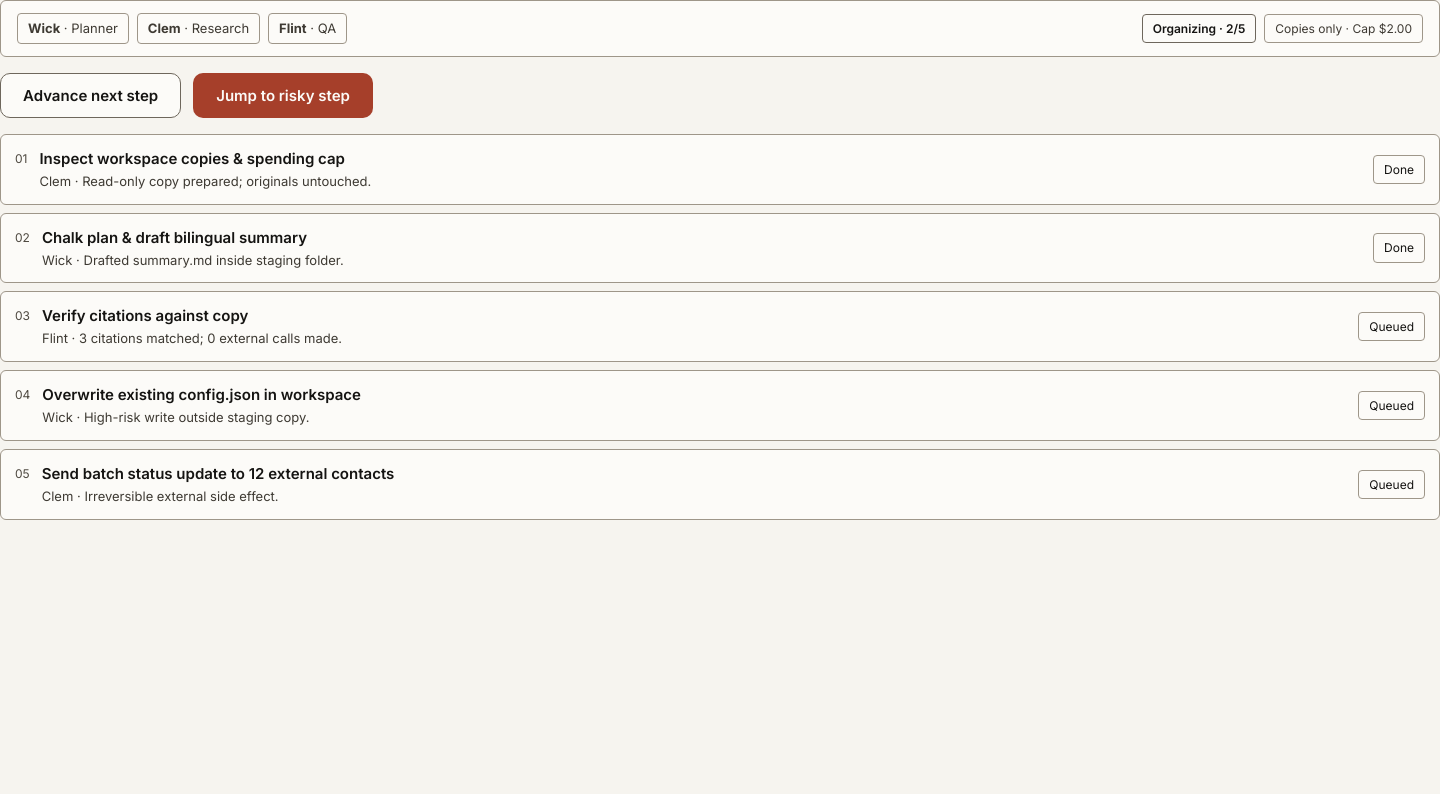
Scenario: CaseSimulatorFrame & Phase 3.6A Simulators › LamplightTriageSim focuses 'Not now' by default on risky steps and preserves progress on pause
// Advance step 03 (low risk)
Click the button "Advance next step": point(91, 95) x1=0 y1=73 x2=181 y2=118
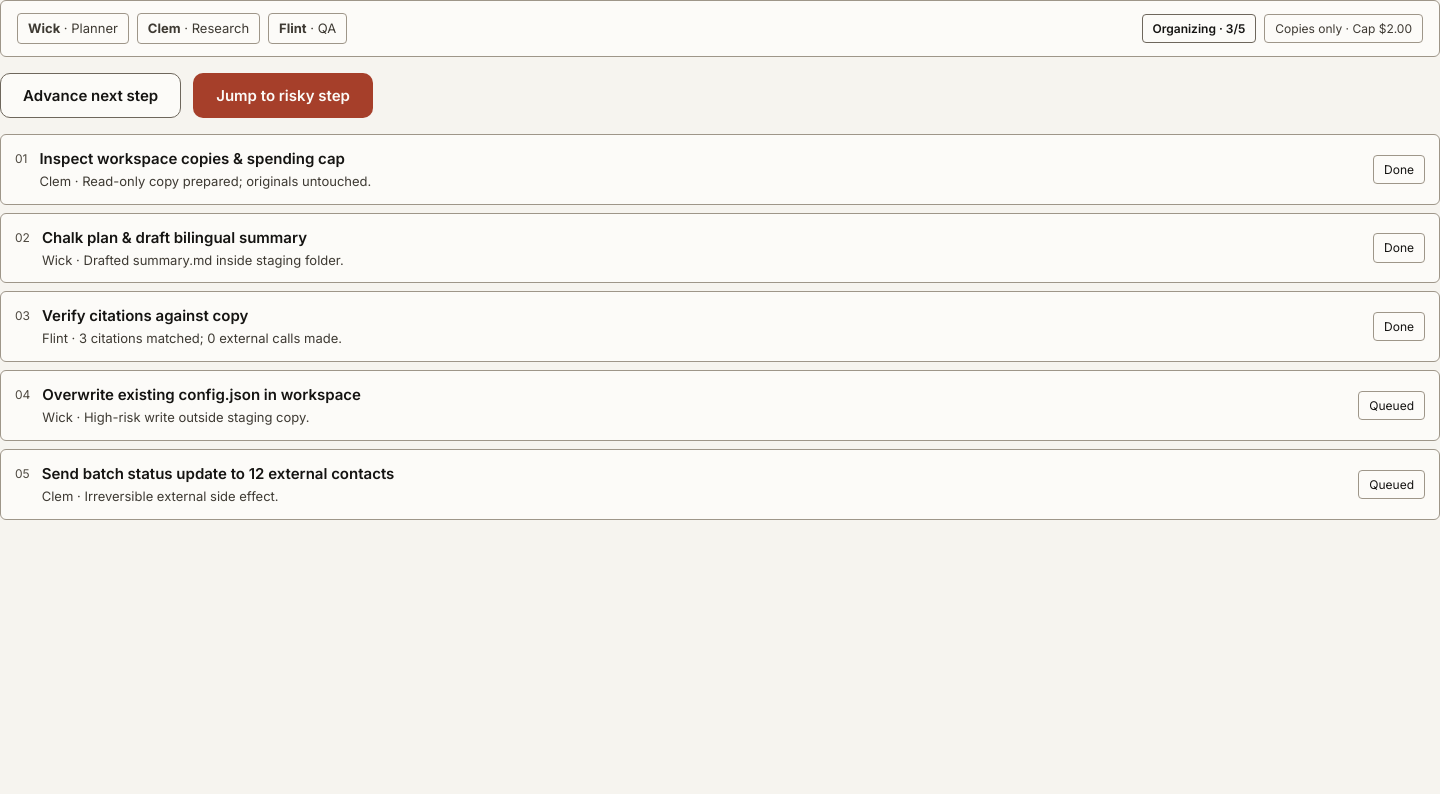
Now the text "Organizing · 3/5" is shown, box x1=1142 y1=14 x2=1256 y2=43
// Advance into step 04 (high risk)
Click the button "Advance next step": point(91, 95) x1=0 y1=73 x2=181 y2=118
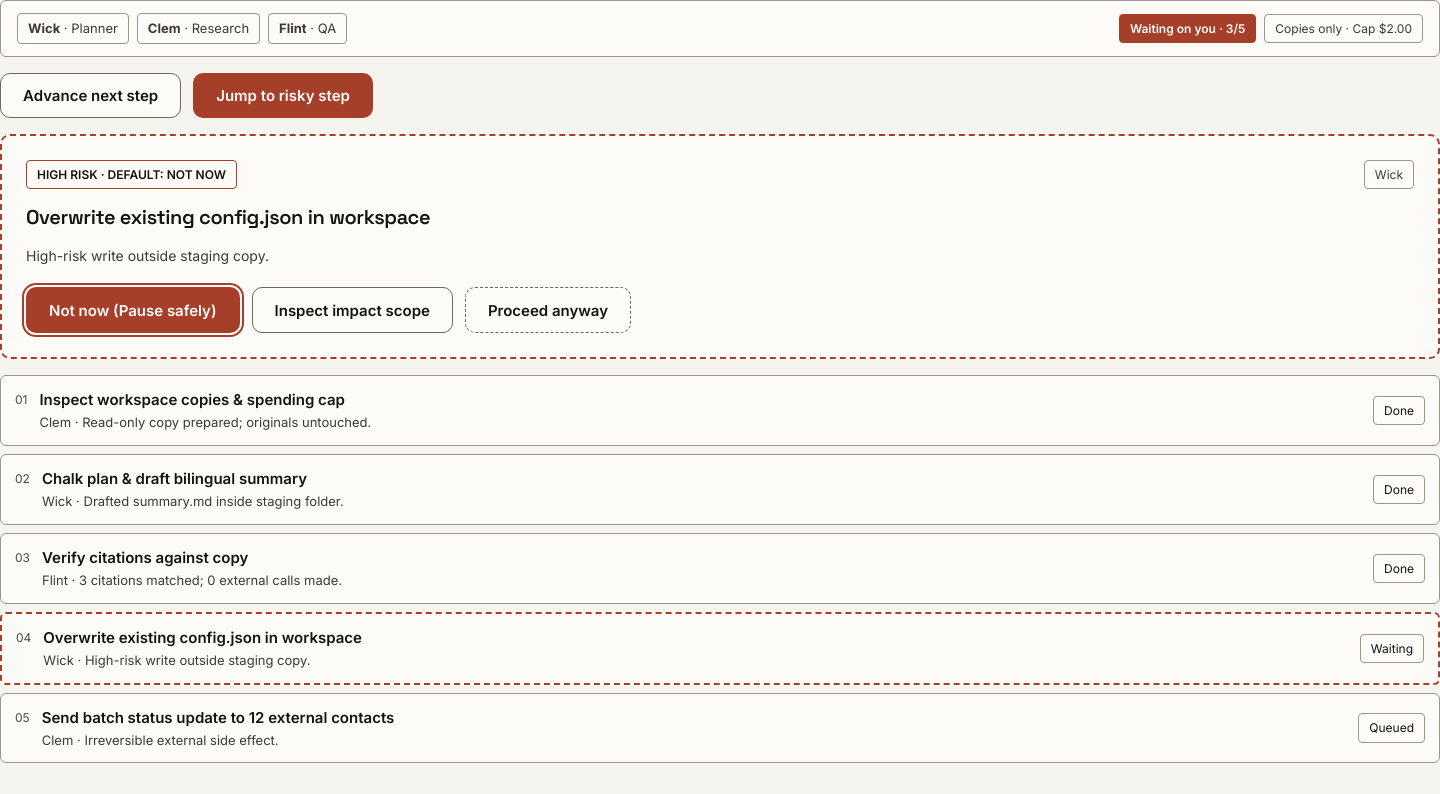
// Inspect impact scope
Click the button "Inspect impact scope": point(352, 310) x1=252 y1=287 x2=453 y2=333
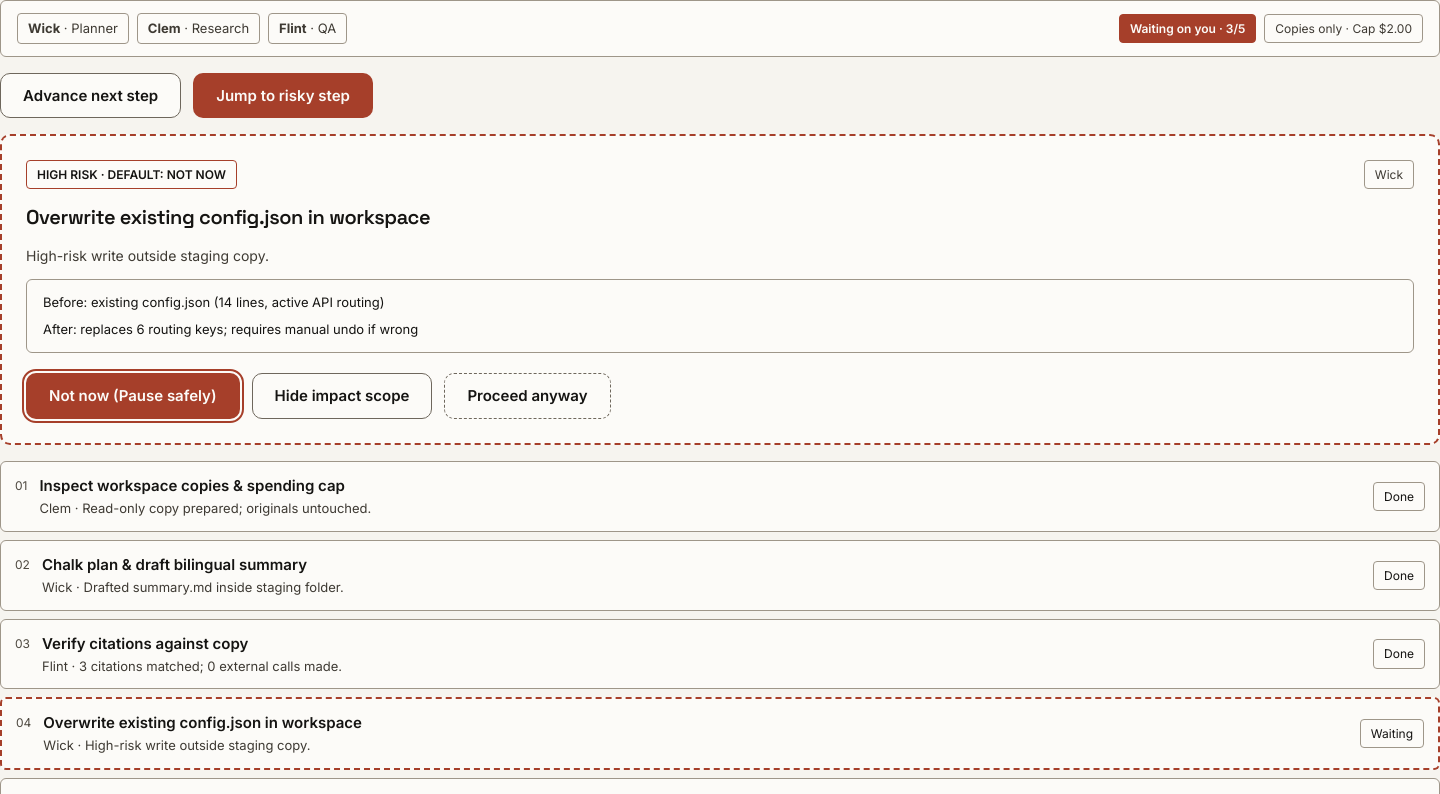
Now the text "Before: existing config.json (14 lines, active API routing)" is shown, box x1=43 y1=294 x2=384 y2=310
Click the button "Not now (Pause safely)": point(133, 396) x1=26 y1=373 x2=240 y2=419
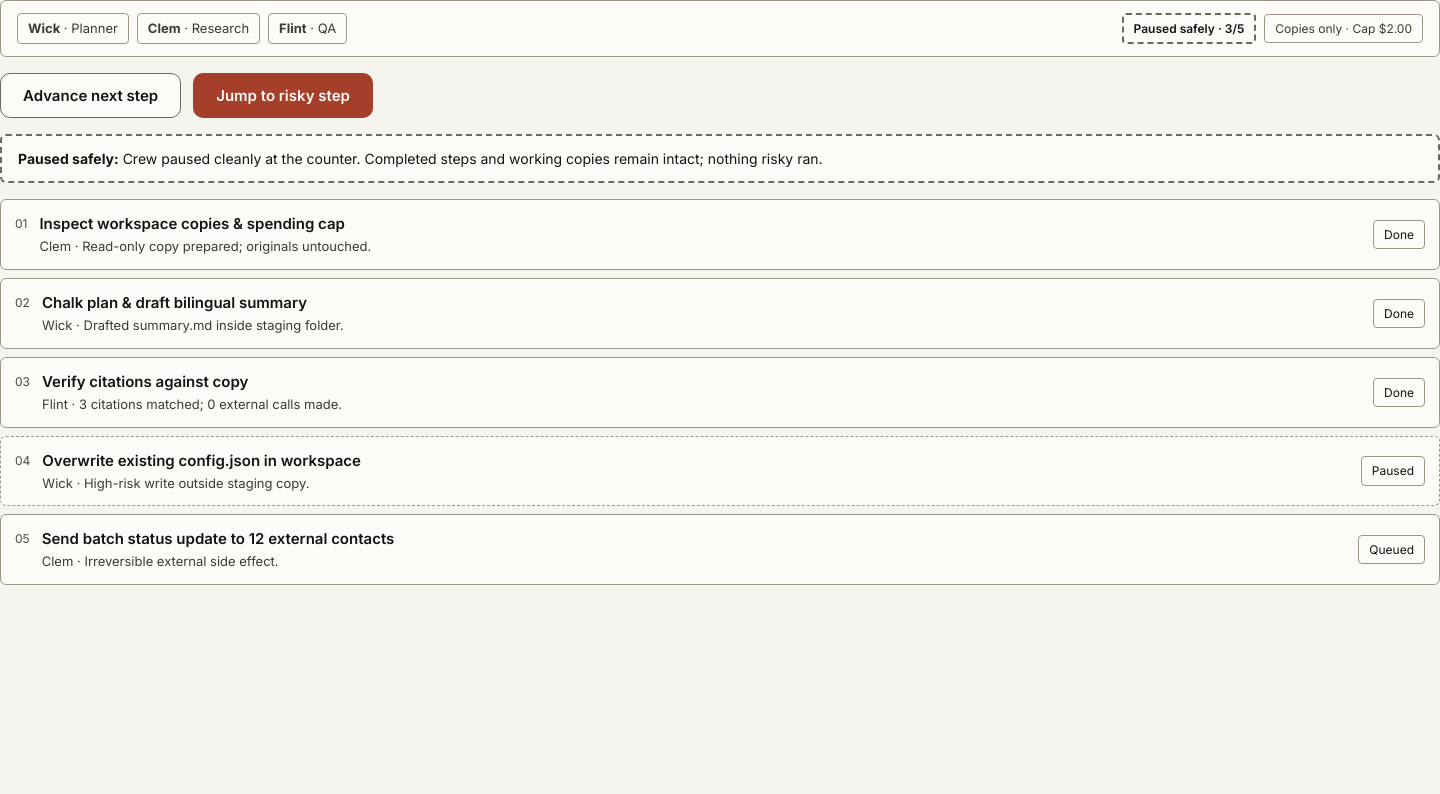
Now the text "Paused safely · 3/5" is shown, box x1=1122 y1=13 x2=1256 y2=44
Now the text "Completed steps and working copies remain intact" is shown, box x1=123 y1=150 x2=823 y2=167
